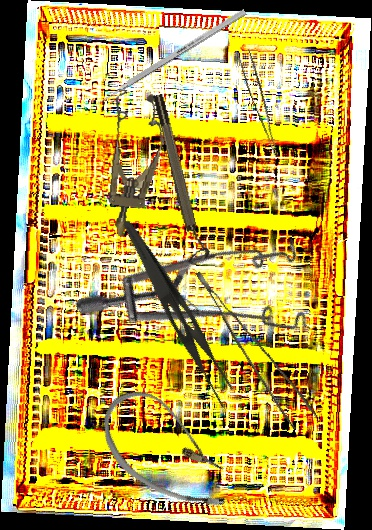Cannula: (84, 378, 254, 525)
Dressing Forceps: (102, 218, 248, 411)
Fixation Ring: (150, 91, 211, 263)
Pusher: (86, 8, 247, 113)
Speculum: (73, 184, 337, 426), (92, 88, 171, 241)
Tissue Forceps: (195, 255, 318, 435), (233, 49, 291, 157)
